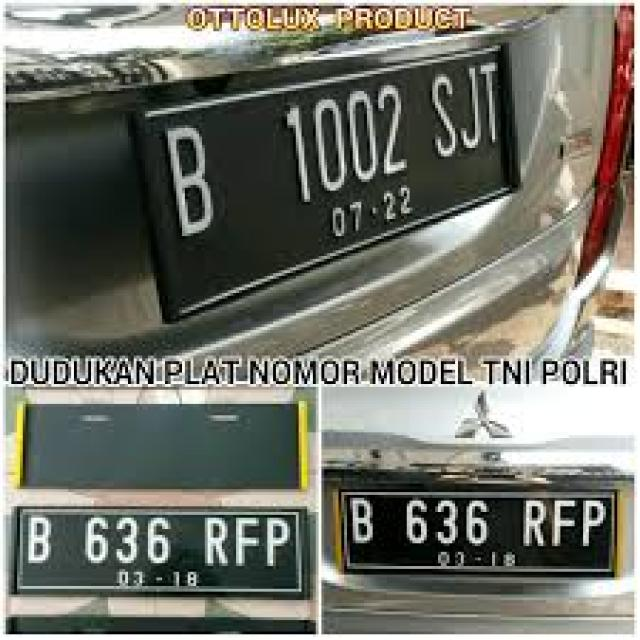license-plat: (122, 41, 531, 330), (334, 478, 625, 584), (9, 504, 309, 604)
